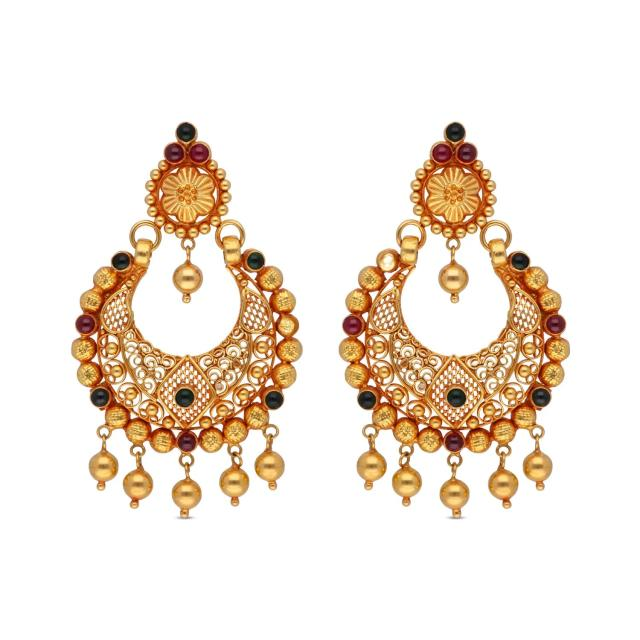missing gem: (378, 253, 396, 270), (279, 317, 295, 333)
